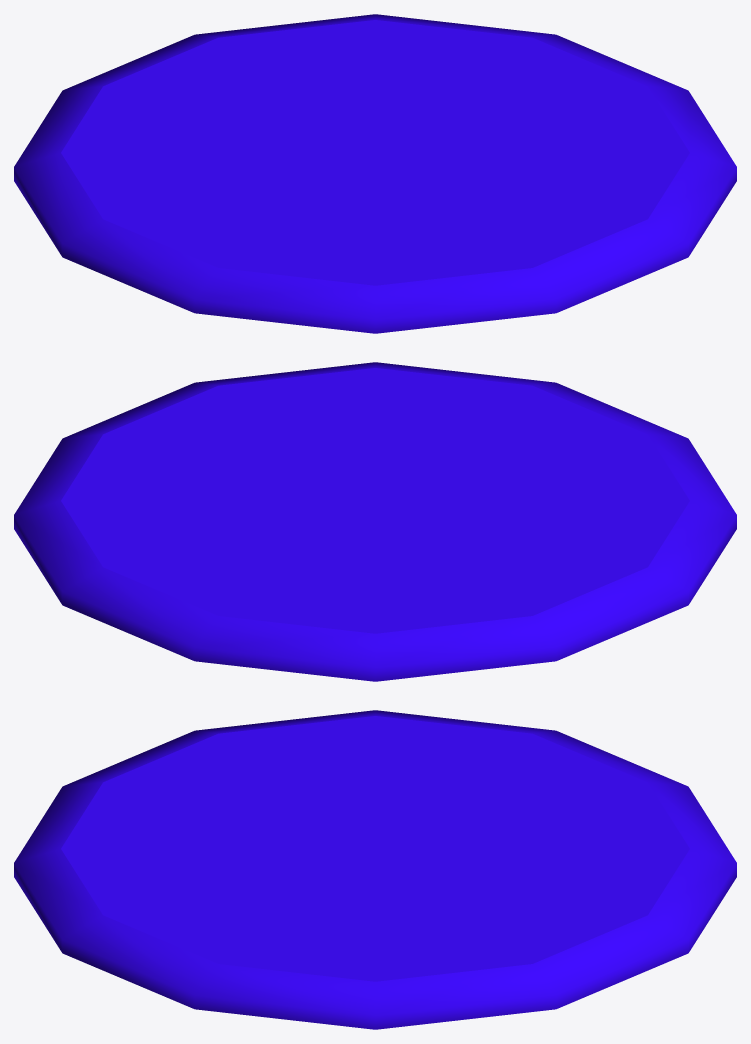
The model's file is office_pack_mugCoaster_round_1_meshCollider.fbx.
3 renders of one model, top to bottom at view 1: azimuth 30°, elevation 25°; view 2: azimuth 150°, elevation 25°; view 3: azimuth 270°, elevation 25°, orthographic.
Visible parts, largest first — view 1: office_pack_mugCoaster_round_1_meshCollider; view 2: office_pack_mugCoaster_round_1_meshCollider; view 3: office_pack_mugCoaster_round_1_meshCollider.
Boxes of the visible parts, box(x1,y1,x2,y2) form: office_pack_mugCoaster_round_1_meshCollider: box(14, 14, 736, 333); office_pack_mugCoaster_round_1_meshCollider: box(14, 362, 736, 681); office_pack_mugCoaster_round_1_meshCollider: box(14, 710, 736, 1029).
Bounding box in the file's own units: 9.98 × 0.4294 × 9.98.
